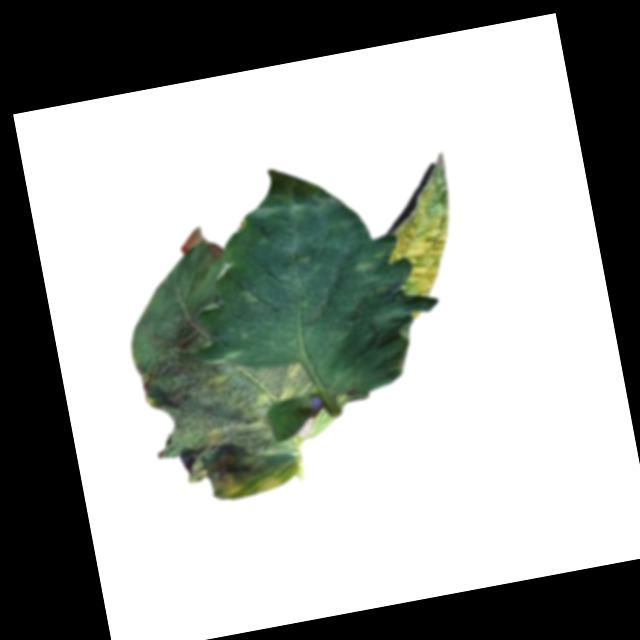Leaf_Mold: (134, 299, 337, 511), (369, 155, 467, 302), (347, 247, 392, 299)
